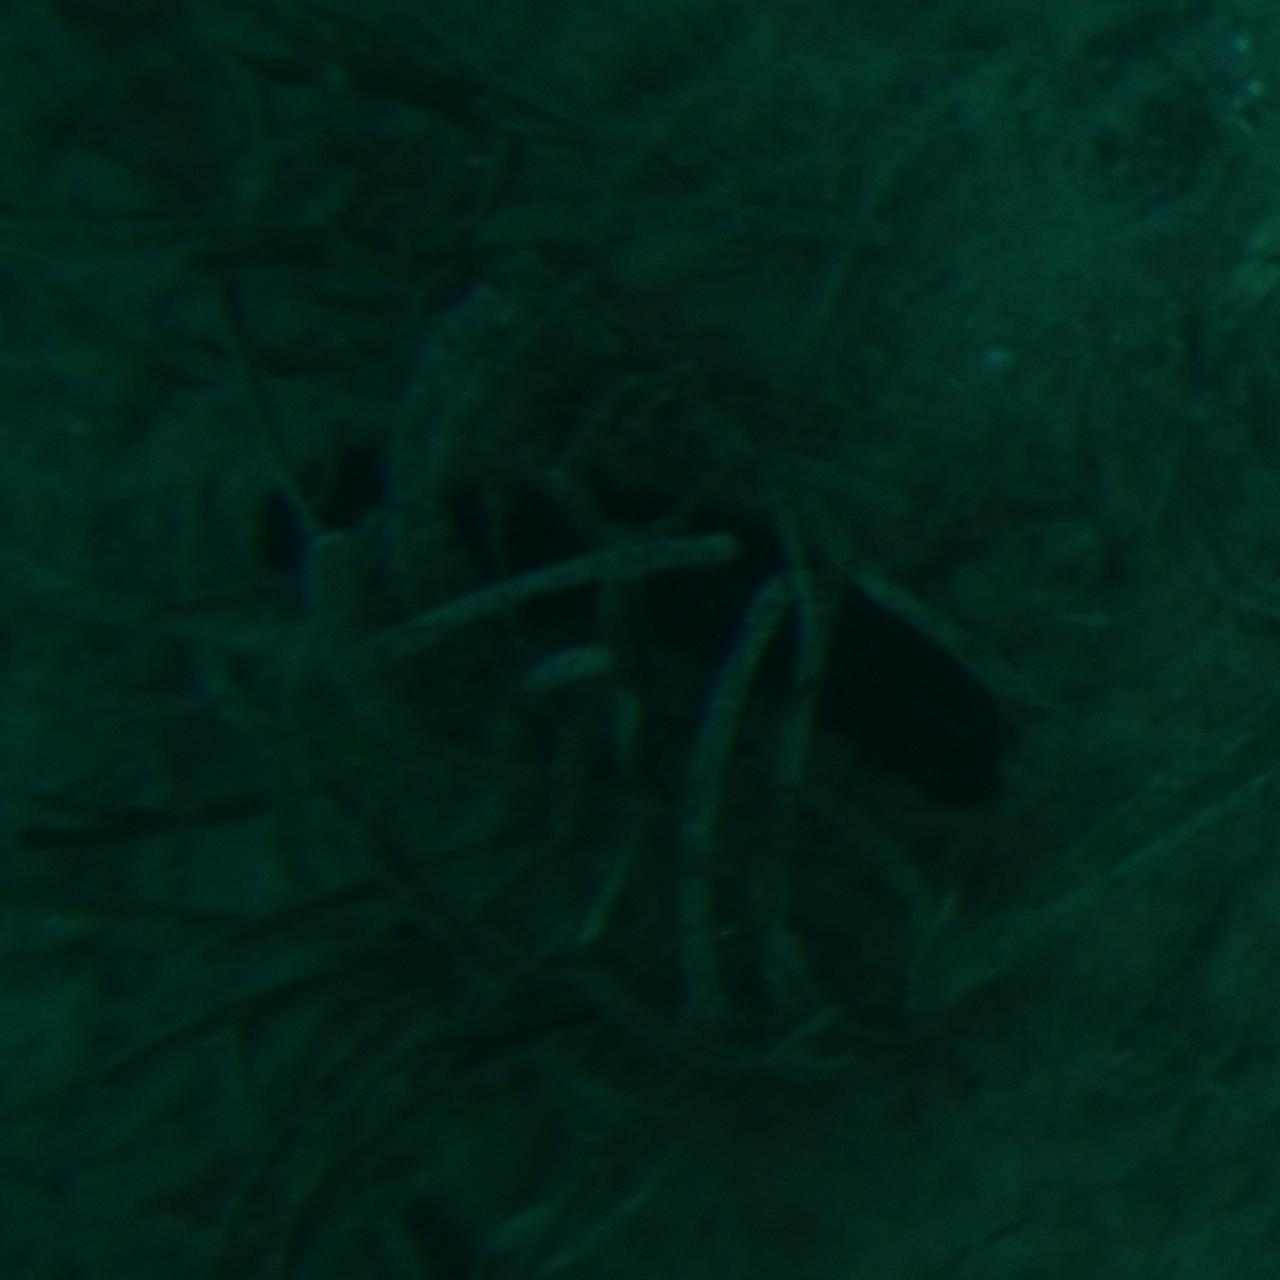Holothuria tubulosa: (262, 458, 1018, 822)
